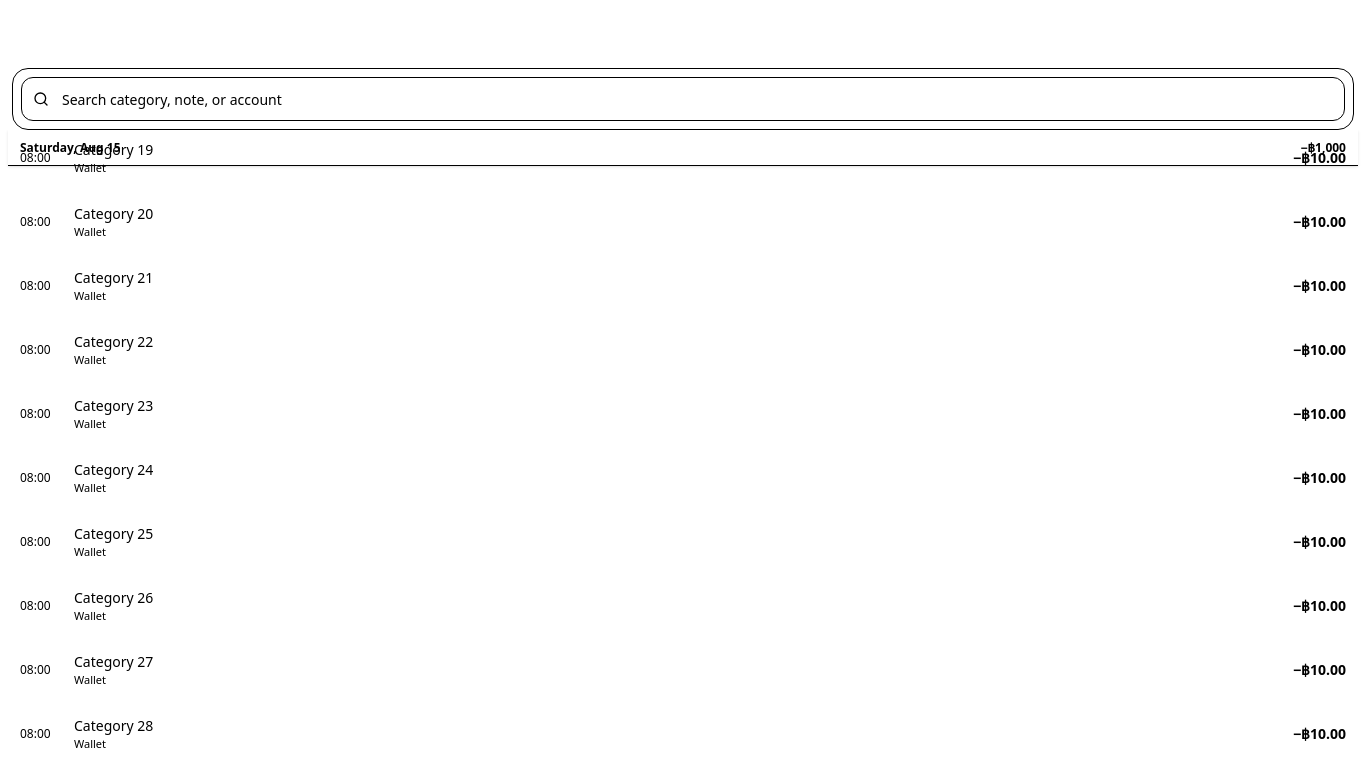
Test case: TransactionHistoryView › resets to the top when search removes the current scroll anchor
(page scrolled)
In the search field named "Search transaction history": (683, 99) top-left (21, 77), bottom-right (1345, 121), type "needle"
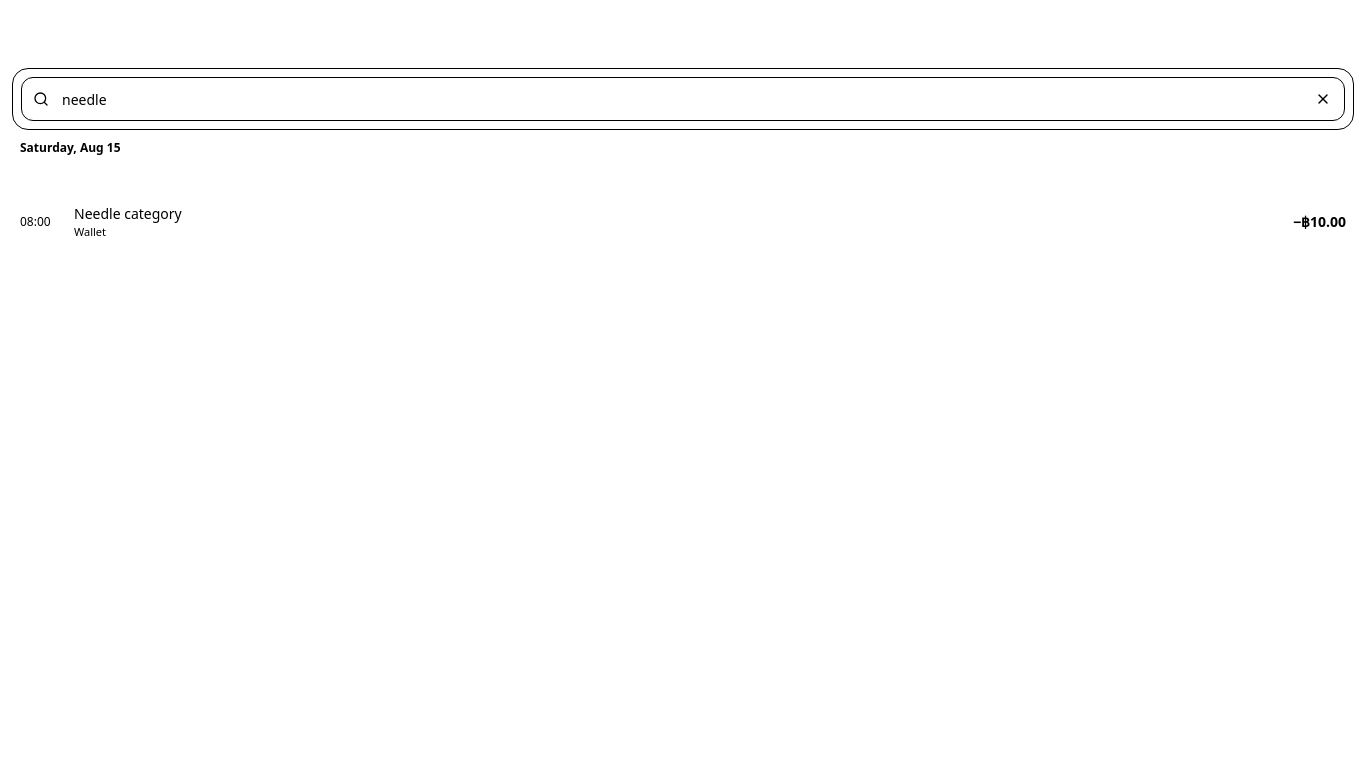
Expected: the text "Needle category" is shown, top-left (74, 204), bottom-right (182, 223)
